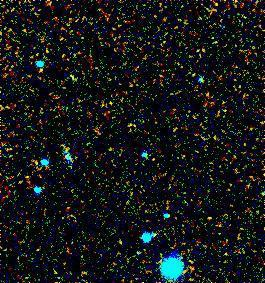star: (137, 144, 167, 174)
